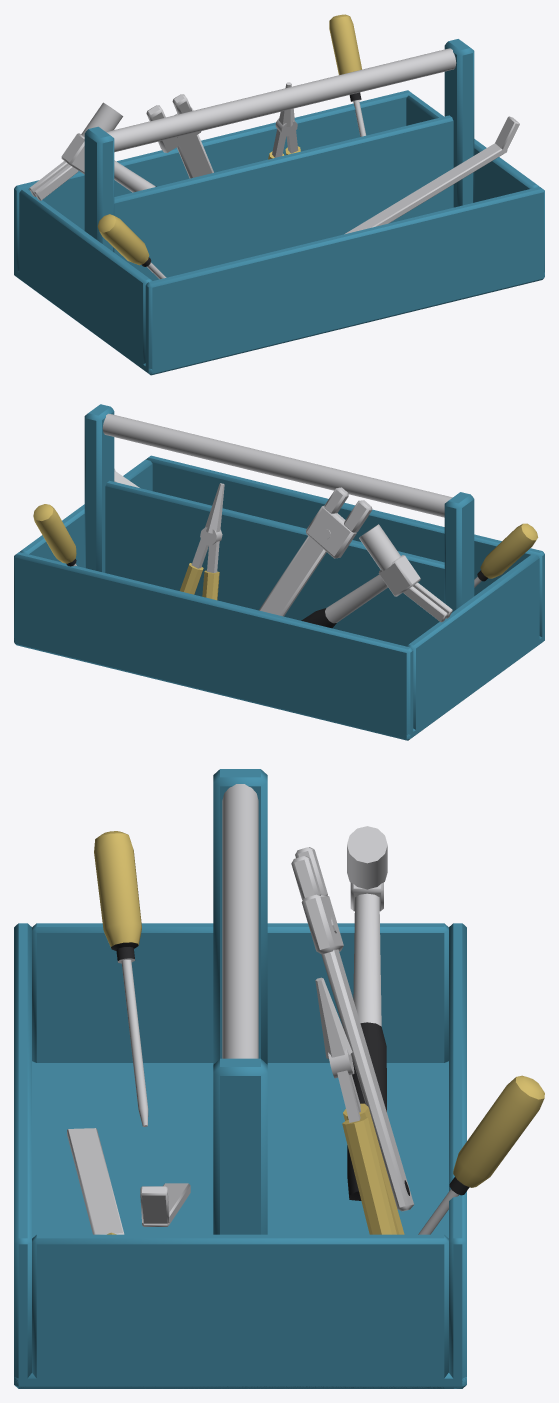
Rendered from SM_Toolbox.fbx.
3 views of the same model, one above another, from view 1: azimuth 30°, elevation 25°; view 2: azimuth 150°, elevation 25°; view 3: azimuth 270°, elevation 25° (orthographic). The views are drawn at different scales.
Parts seen in each view (by area): view 1: SM_Toolbox; view 2: SM_Toolbox; view 3: SM_Toolbox.
Part boxes in pixels (x1,y1,x2,y2): SM_Toolbox: (14, 14, 544, 375); SM_Toolbox: (14, 404, 544, 740); SM_Toolbox: (14, 769, 544, 1388).
Size of the model in its own units: 54.2 by 22.9 by 35.17.
